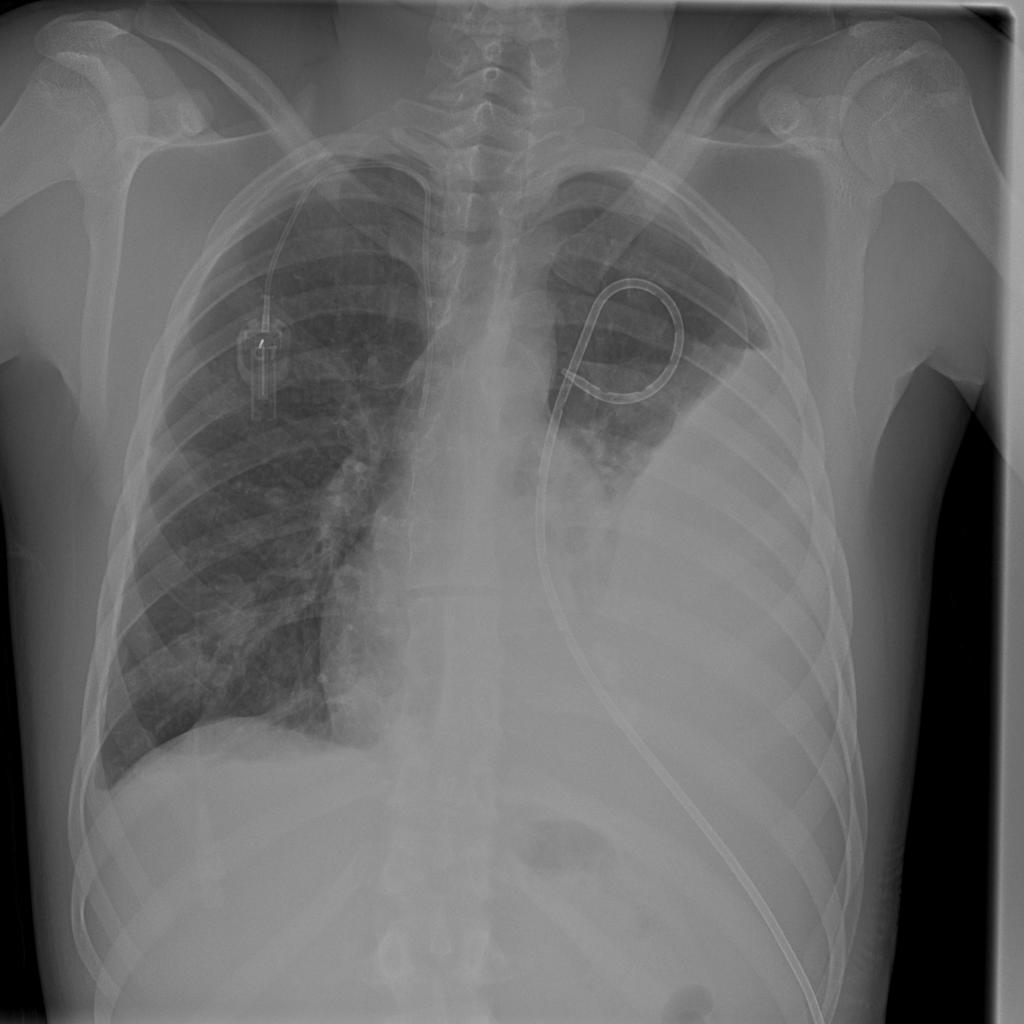nodule: (195, 564, 266, 645), (151, 430, 220, 499), (252, 473, 300, 522)
